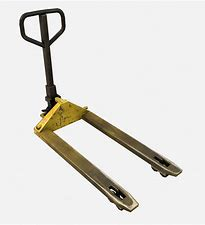Pallet Jack: (17, 7, 183, 213)
